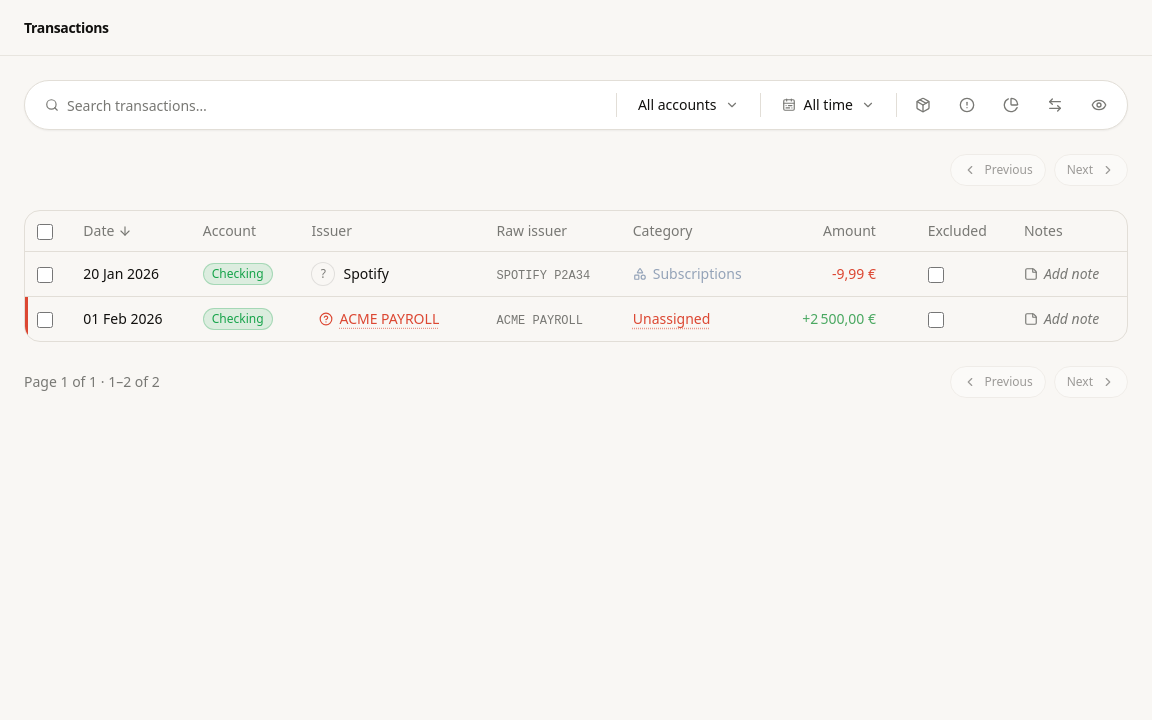
Test case: TransactionsView › deletes the ticked rows once confirmed, and the list reflects it
The width and height of the screenshot is (1152, 720).
Expected: the button "ACME PAYROLL" is shown, top-left (312, 306), bottom-right (447, 330)
Click the checkbox named "select transaction SPOTIFY".
click(45, 275)  # box top-left (37, 267), bottom-right (53, 283)
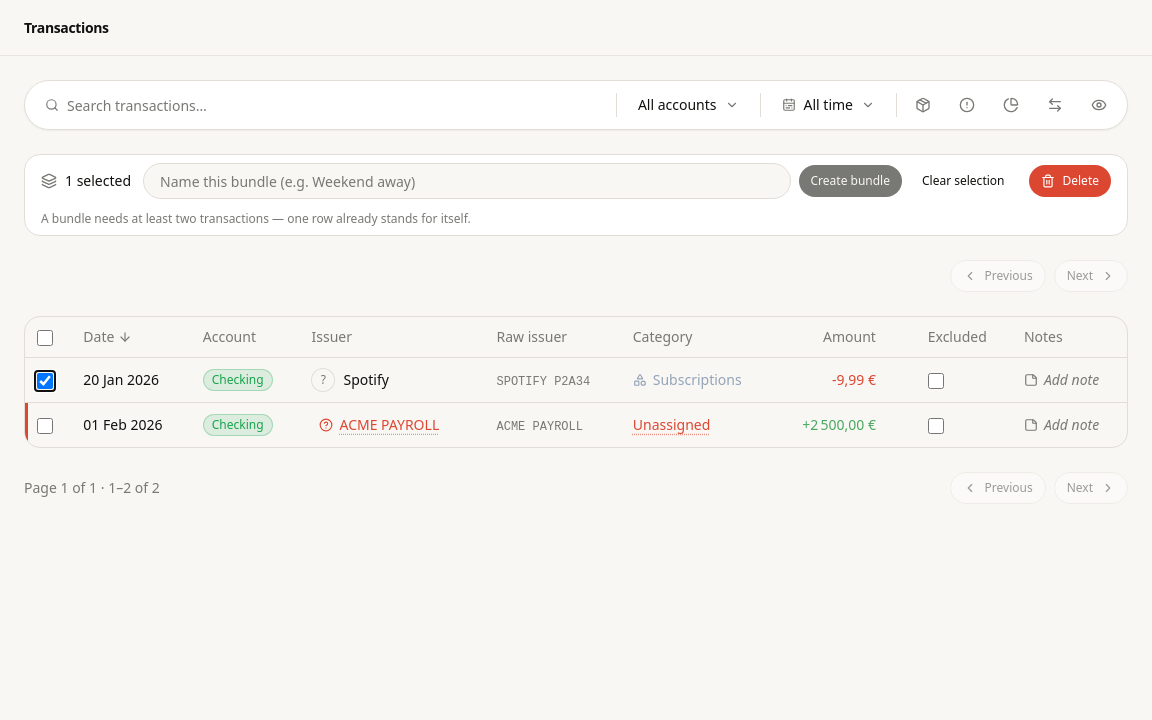
Click the button "Delete".
click(1070, 181)  # box top-left (1028, 165), bottom-right (1111, 197)
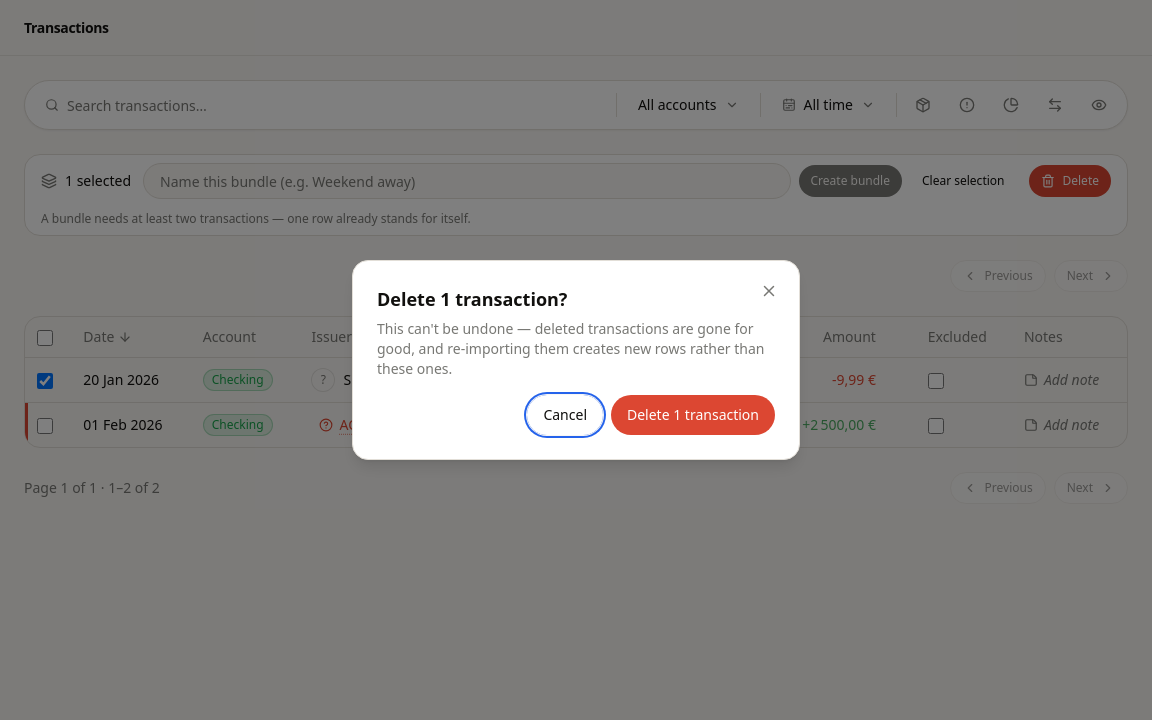
Click the button "Delete 1 transaction".
click(693, 415)  # box top-left (611, 395), bottom-right (775, 435)
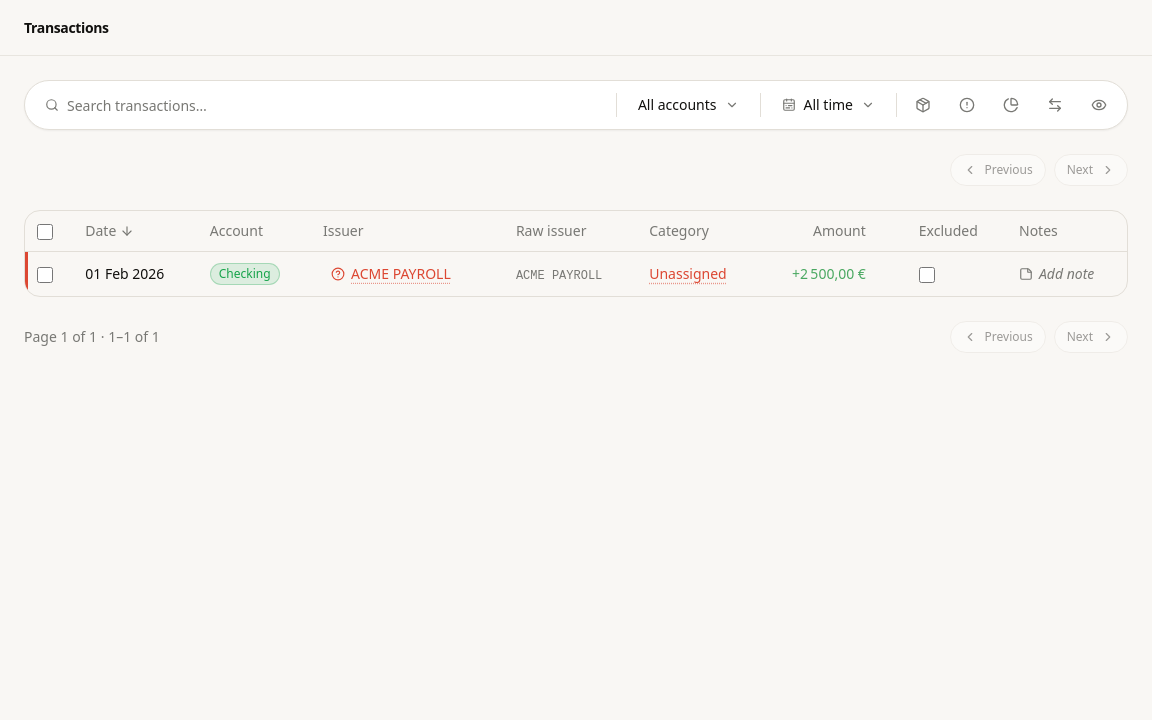
Expected: the link "SPOTIFY P2A34" is not shown
Result: the text "1 selected" is gone
